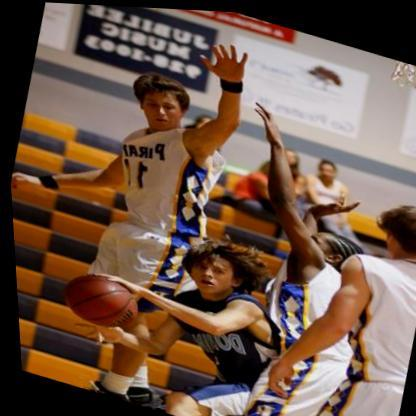basketball: (56, 265, 144, 333)
